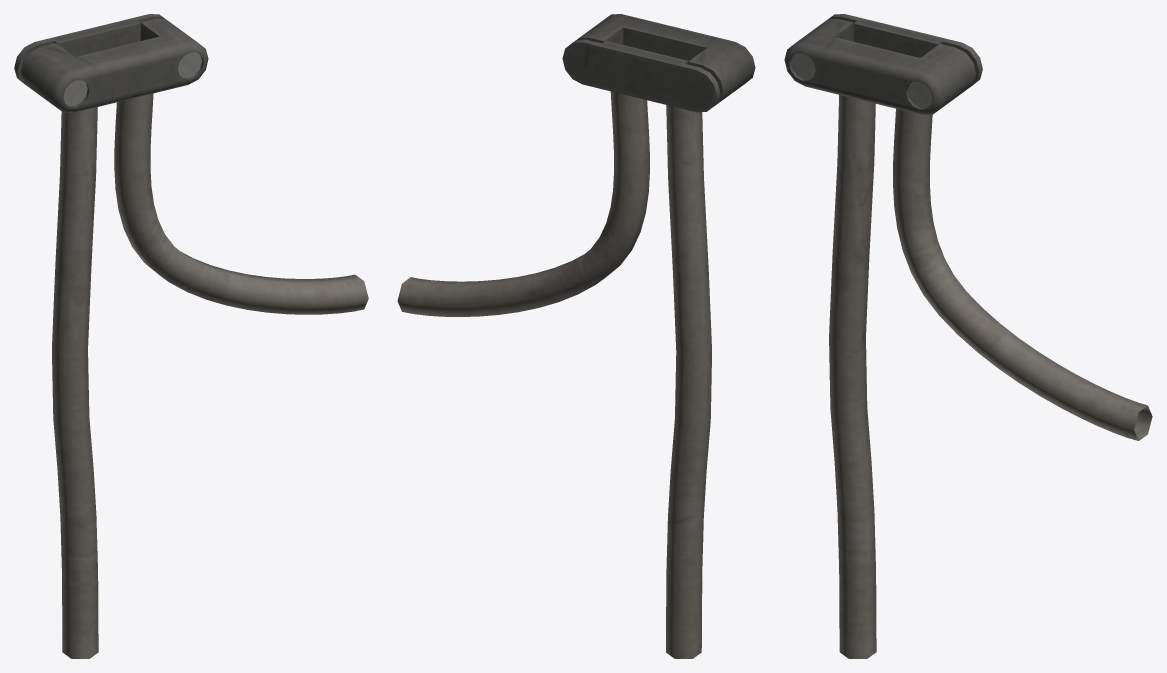
Rendered from cable_cable_to_double_4.fbx.
3 views of the same model, side by side, from view 1: azimuth 30°, elevation 25°; view 2: azimuth 150°, elevation 25°; view 3: azimuth 330°, elevation 25° (orthographic). The views are drawn at different scales.
Parts seen in each view (by area): view 1: modular_electric_cables__cable_to_double_4; view 2: modular_electric_cables__cable_to_double_4; view 3: modular_electric_cables__cable_to_double_4.
Boxes of the visible parts, <box> form: modular_electric_cables__cable_to_double_4: <box>14,14,368,658</box>; modular_electric_cables__cable_to_double_4: <box>397,14,755,658</box>; modular_electric_cables__cable_to_double_4: <box>784,14,1152,658</box>.
Size of the model in its own units: 0.1178 by 0.2072 by 0.0259.
